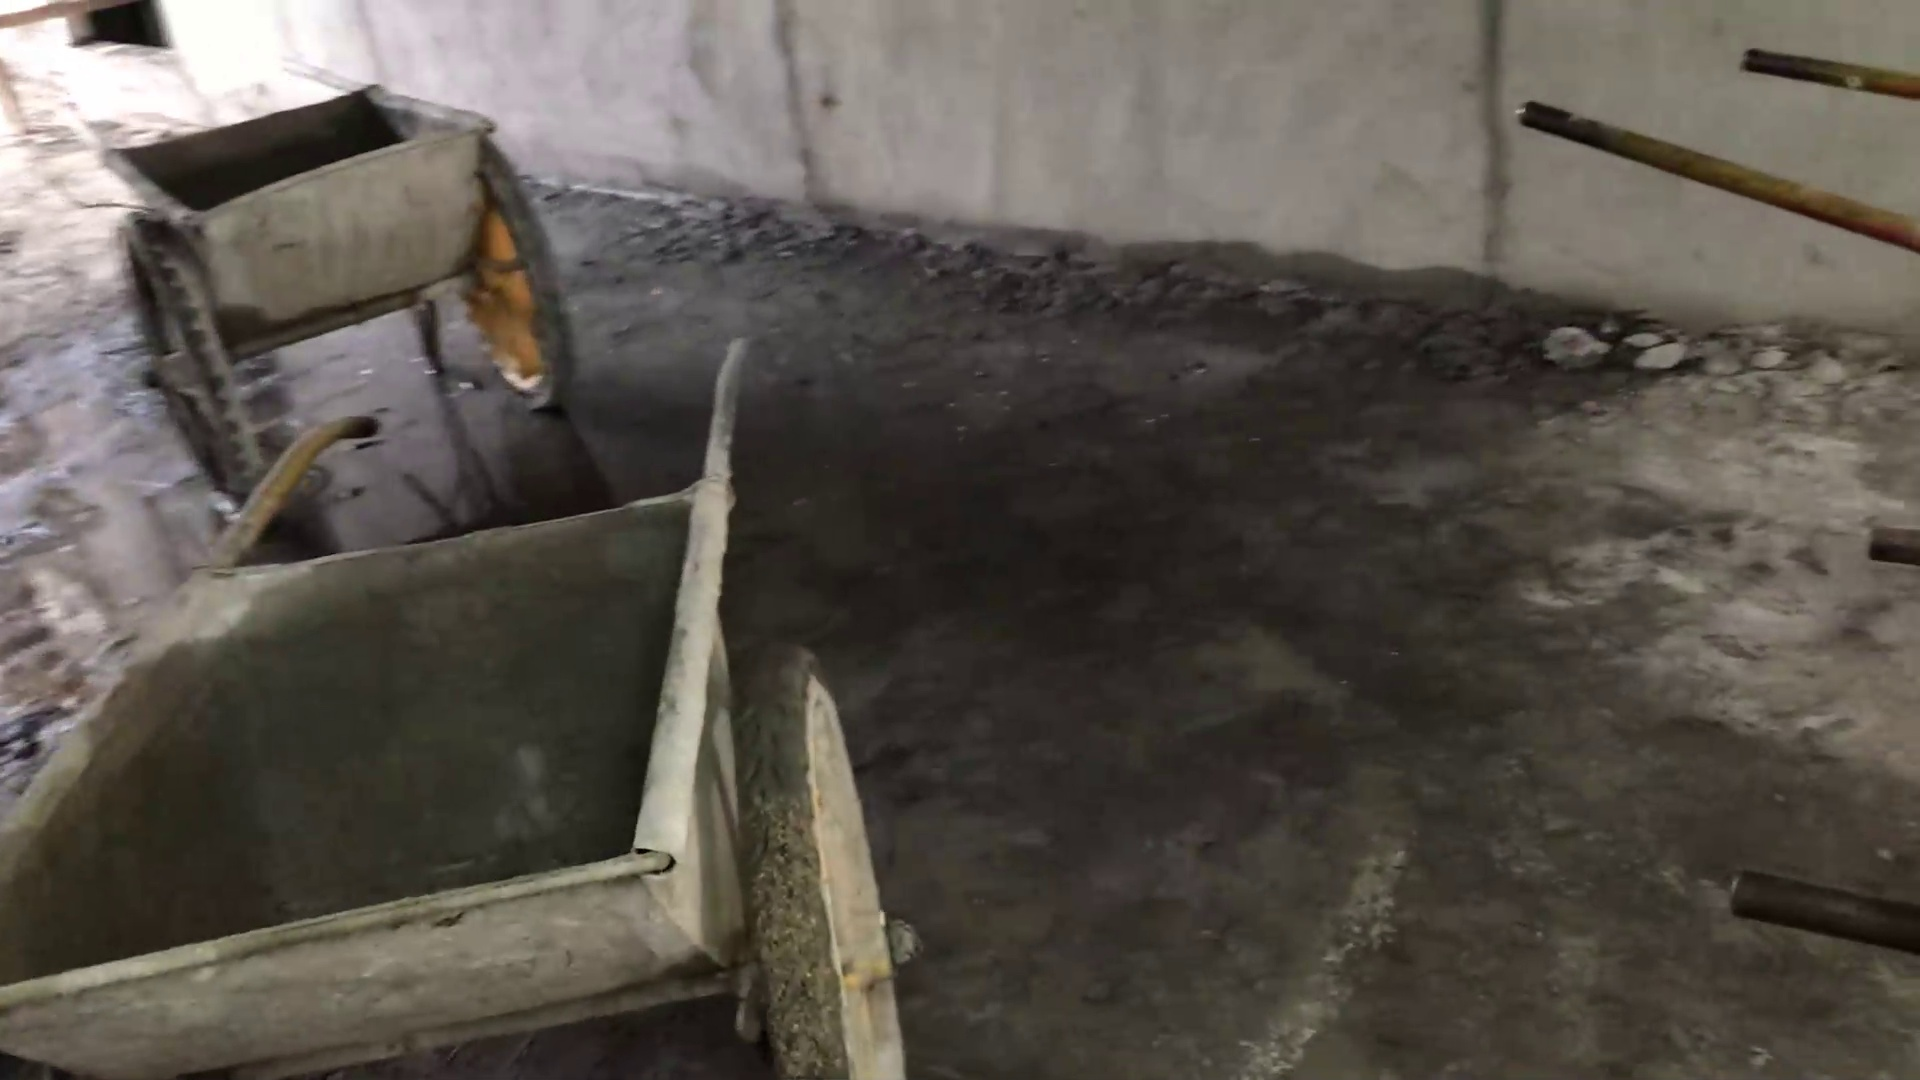handcart: (9, 345, 1046, 1080), (40, 79, 626, 469)
